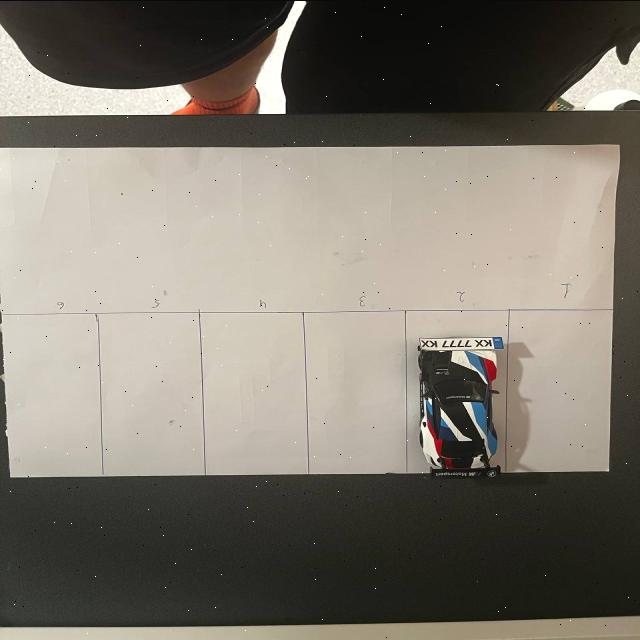KX 7777 KX: (412, 331, 510, 350)
